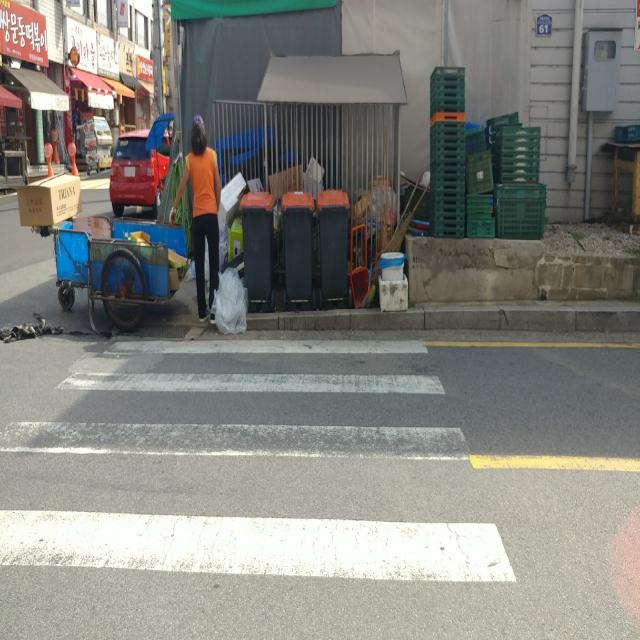횡단보도: (0, 334, 520, 590)
